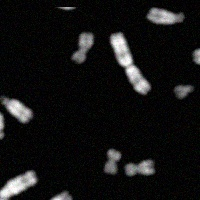chromosome: (111, 33, 151, 95), (0, 171, 38, 200), (1, 95, 32, 125), (71, 32, 94, 63), (147, 7, 185, 24), (126, 160, 156, 178), (104, 148, 120, 175), (173, 83, 194, 100), (34, 192, 73, 200), (0, 111, 6, 138), (192, 45, 200, 64)
